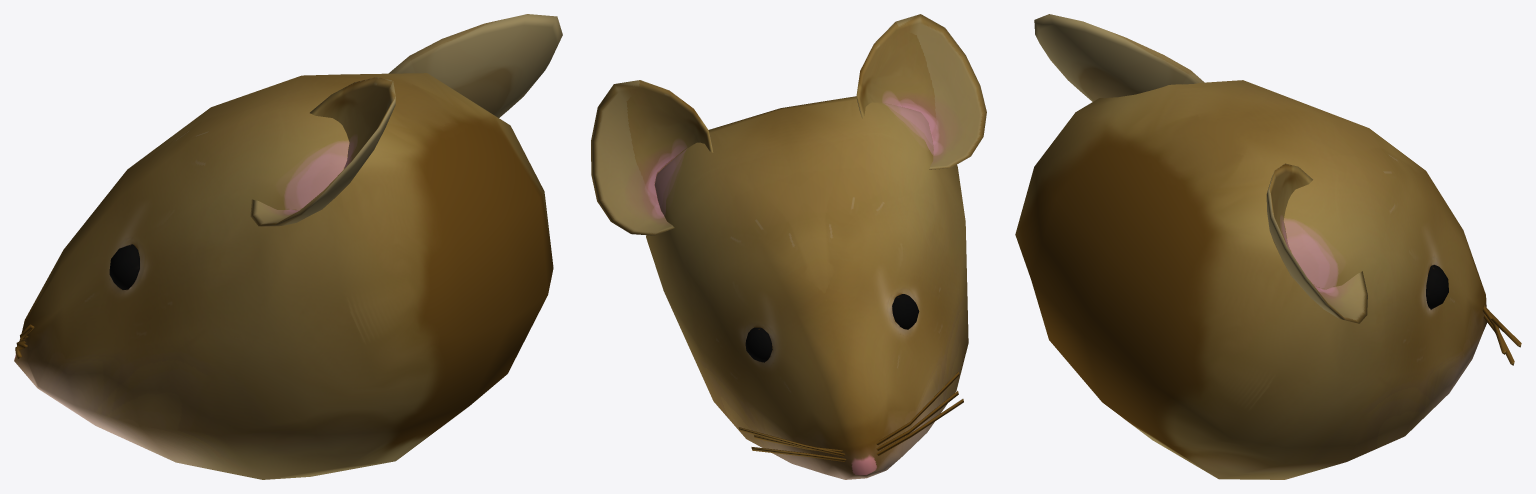
Rendered from mouse_head.obj.
3 views of the same model, side by side, from view 1: azimuth 30°, elevation 25°; view 2: azimuth 150°, elevation 25°; view 3: azimuth 270°, elevation 25° (orthographic). The views are drawn at different scales.
Parts seen in each view (by area): view 1: Maus.003, Maus.013, Maus.004, Maus.002; view 2: Maus.003, Maus.013, Maus.004, Maus.011, Maus.010, Maus.008, Maus.002, Maus.012; view 3: Maus.003, Maus.004, Maus.013, Maus.008.
Part boxes in pixels (x1,y1,x2,y2): Maus.003: (14,73,553,479); Maus.013: (388,14,562,117); Maus.004: (250,77,395,227); Maus.002: (109,244,139,289); Maus.003: (646,96,968,479); Maus.013: (591,80,713,235); Maus.004: (856,14,986,169); Maus.011: (751,399,963,461); Maus.010: (738,391,958,456); Maus.008: (745,327,772,362); Maus.002: (892,294,919,329); Maus.012: (754,371,959,452); Maus.003: (1015,80,1487,479); Maus.004: (1034,14,1204,101); Maus.013: (1266,163,1367,323); Maus.008: (1426,265,1448,309).
Bounding box in the file's own units: 0.9182 × 0.7774 × 0.8246.
1 material, 1 textured.
